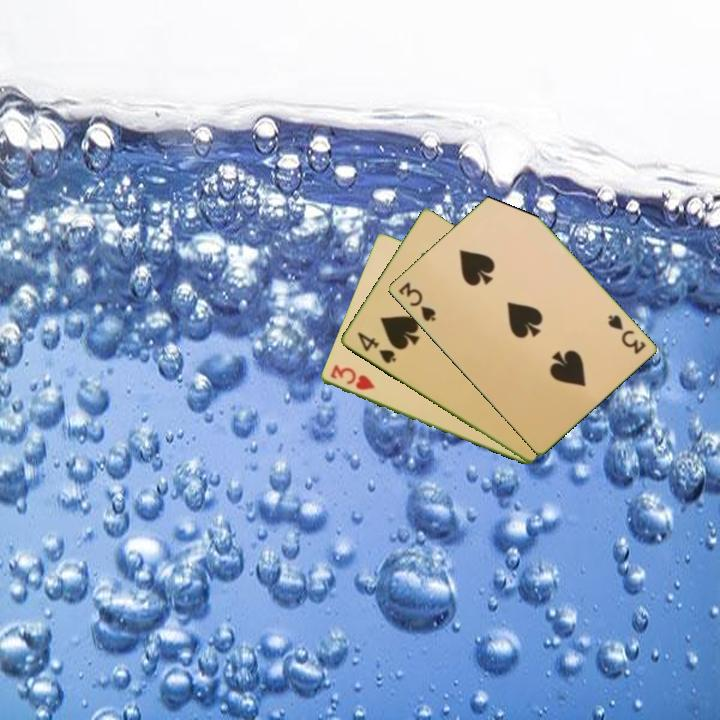3h: (326, 361, 378, 393)
3s: (604, 311, 648, 357), (395, 278, 438, 325)
4s: (353, 328, 399, 367)
